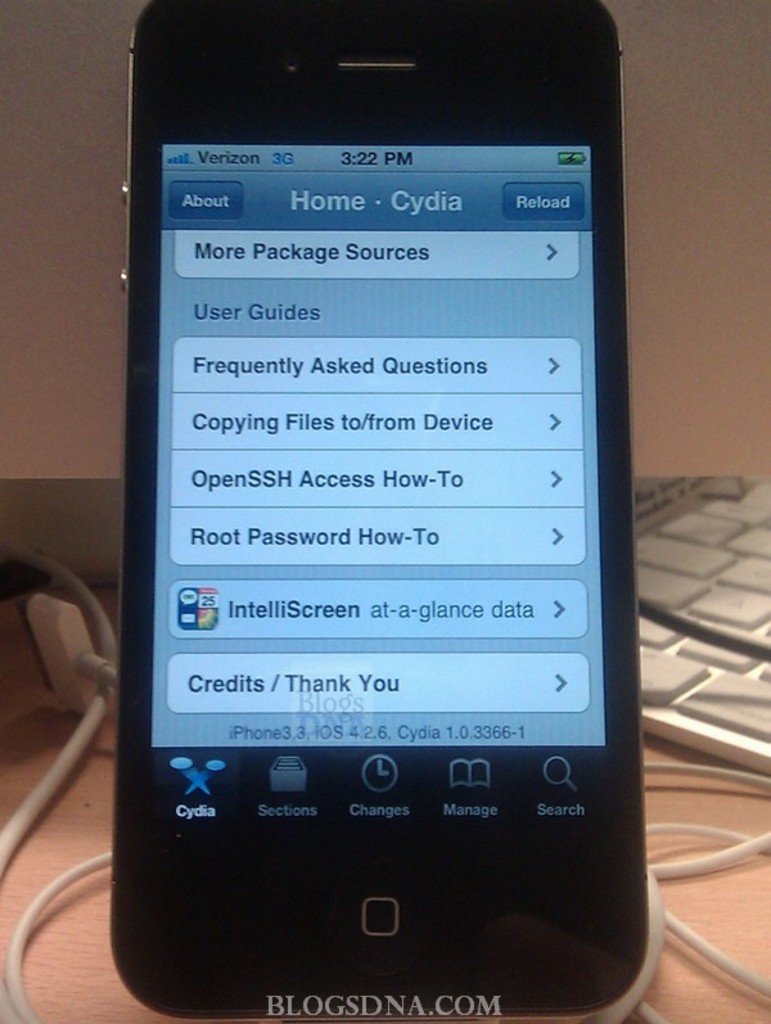Mobile-phone: (91, 3, 645, 1015)
